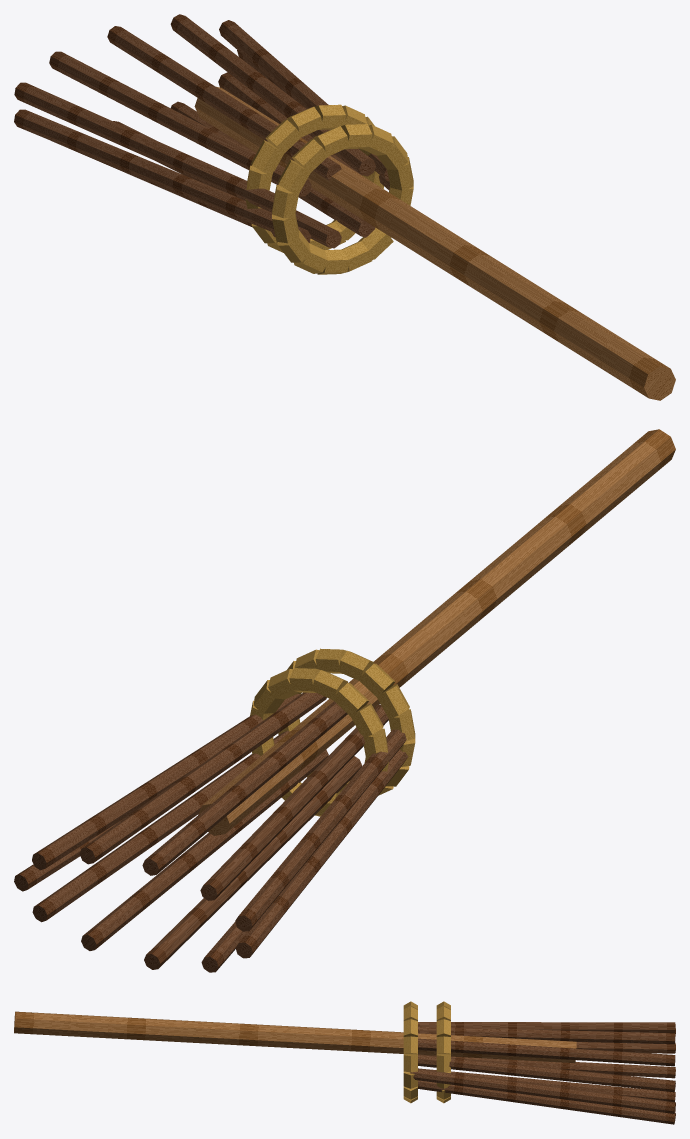
Rendered from broom.glb.
3 views of the same model, one above another, from view 1: azimuth 30°, elevation 25°; view 2: azimuth 150°, elevation 25°; view 3: azimuth 270°, elevation 25° (orthographic). The views are drawn at different scales.
Visible parts, largest first — view 1: twig (×10), handle, binding5 (×2), binding6 (×2), binding4 (×2), binding3 (×2), binding7, binding8, binding9, binding2, binding1, binding10 (+1 smaller); view 2: twig (×11), handle; view 3: twig (×9), handle, binding1 (×2), binding0 (×2), binding2 (×2).
Boxes of the visible parts, box(x1,y1,x2,y2) form: twig (×10): box(14, 14, 389, 248); handle: box(194, 86, 675, 400); binding5 (×2): box(265, 119, 328, 173); binding6 (×2): box(251, 140, 309, 194); binding4 (×2): box(287, 106, 348, 156); binding3 (×2): box(314, 104, 372, 149); binding7: box(272, 185, 298, 218); binding8: box(272, 214, 298, 243); binding9: box(278, 230, 310, 262); binding2: box(361, 125, 393, 155); binding1: box(377, 136, 408, 170); binding10: box(294, 243, 328, 273); twig (×11): box(14, 692, 408, 972); handle: box(198, 429, 675, 835); twig (×9): box(410, 1022, 675, 1124); handle: box(14, 1011, 576, 1063); binding1 (×2): box(403, 1036, 450, 1054); binding0 (×2): box(403, 1054, 450, 1072); binding2 (×2): box(403, 1019, 450, 1036).
Size of the model in its own units: 0.5256 by 0.3412 by 2.
Materials: 1 (1 with a texture image).
